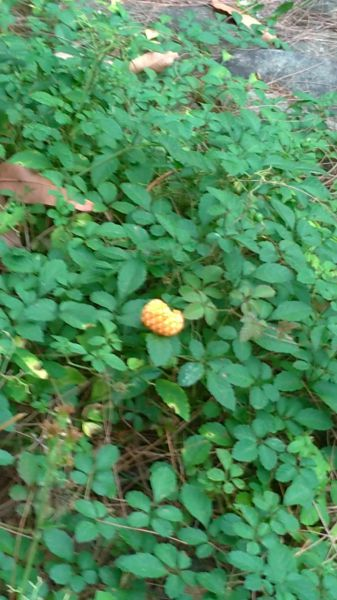eggs: (135, 296, 188, 341)
